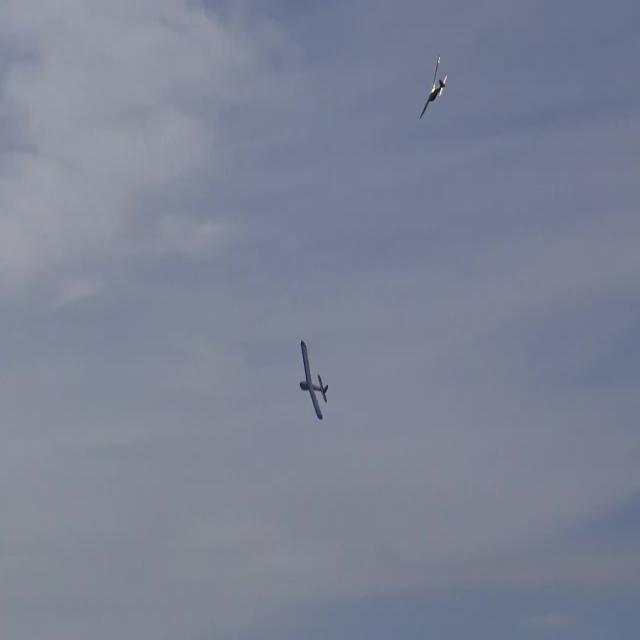iha: (300, 370, 328, 390), (420, 21, 447, 24)
